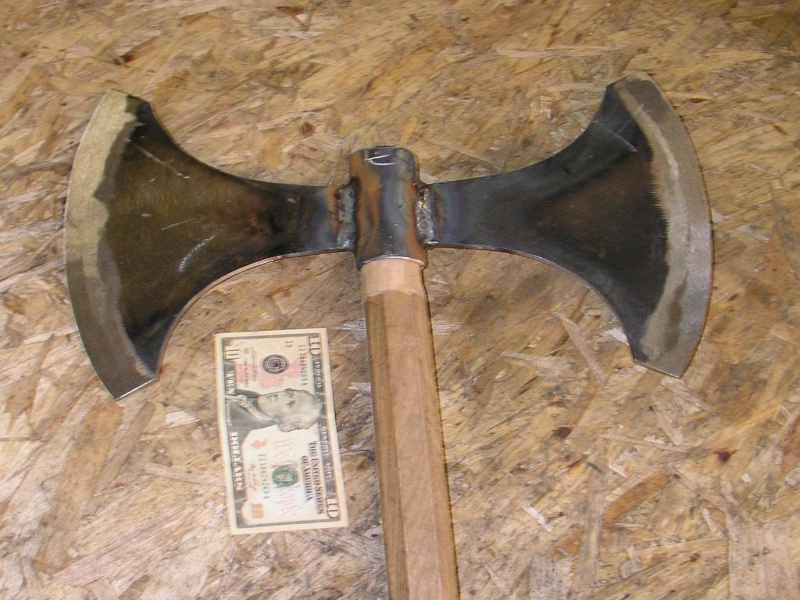axe: (51, 74, 717, 403)
